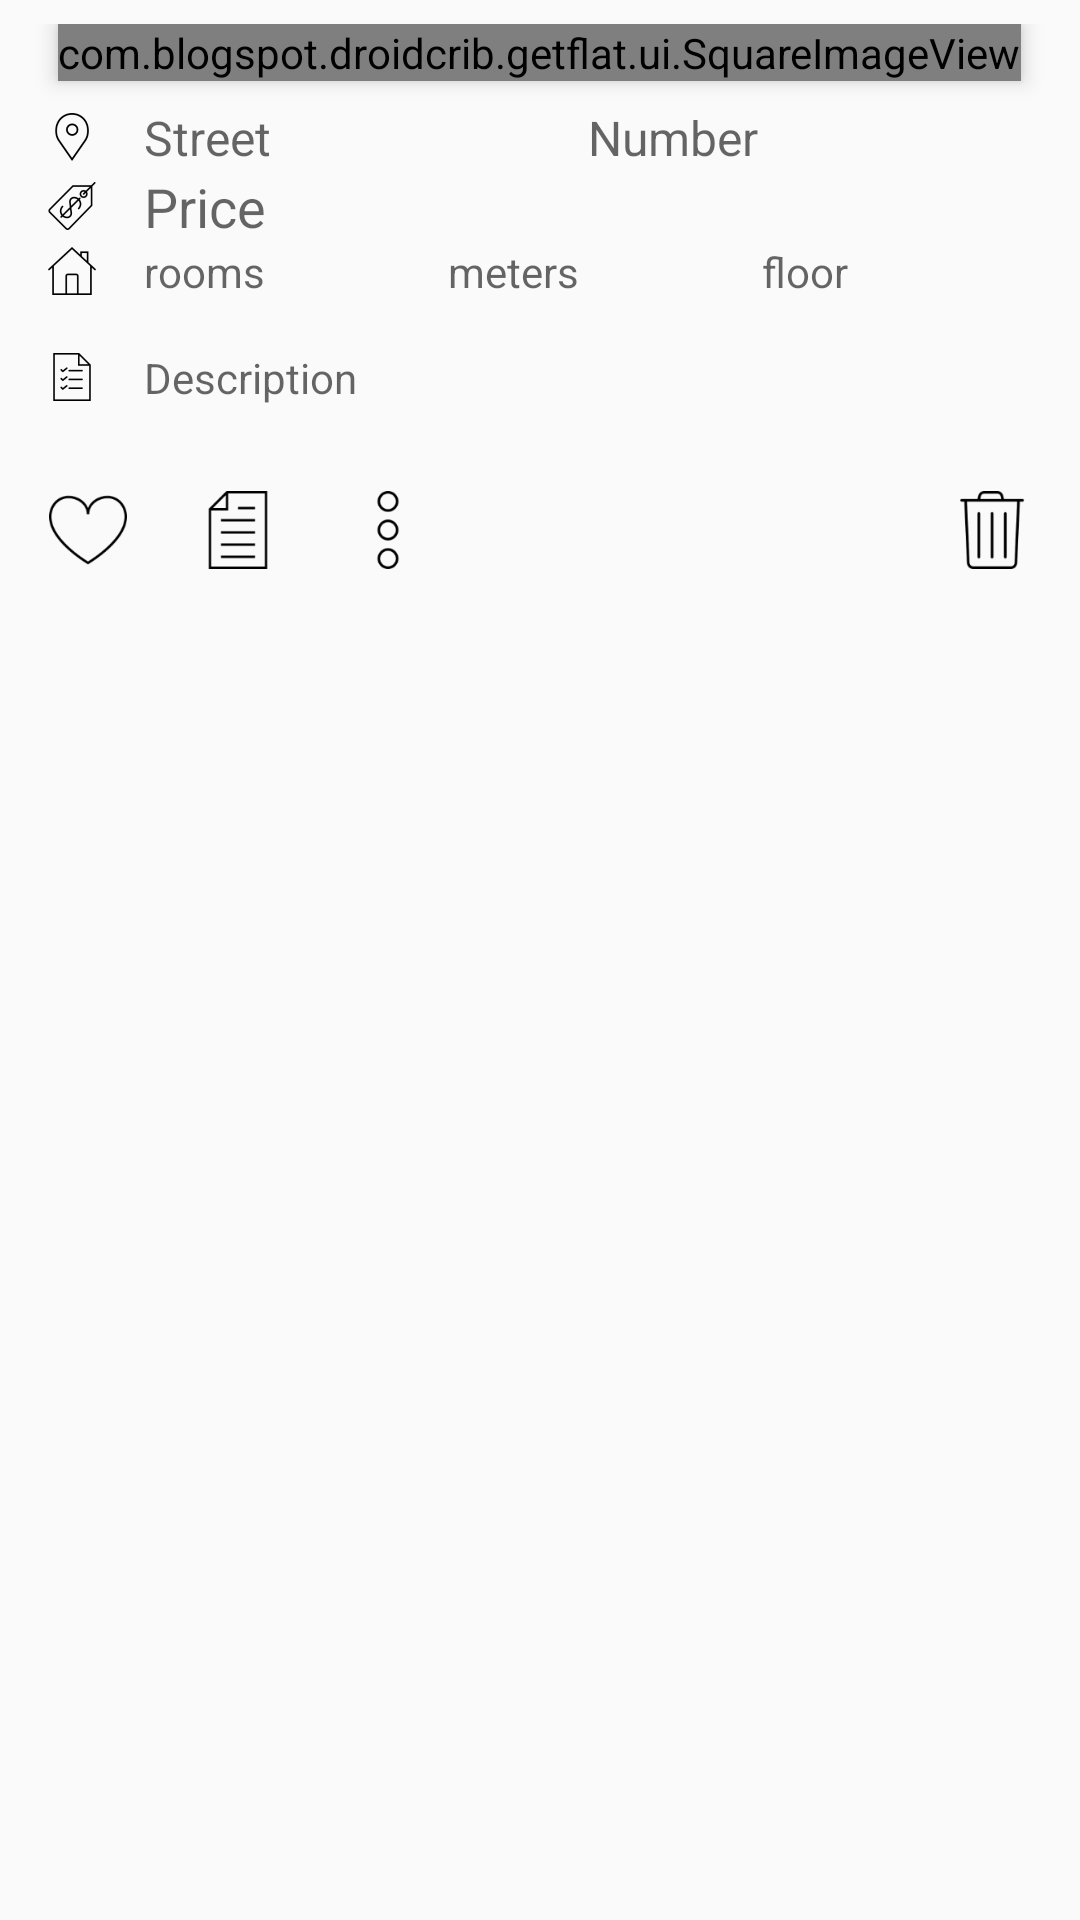

Screen size 1080*1920. Icon name, then its box in pixels as (x1, y1, x2, y2):
garbage: (960, 491, 1024, 569)
heart: (49, 495, 127, 565)
home: (48, 247, 96, 295)
list: (53, 353, 91, 401)
more: (377, 491, 399, 569)
note: (208, 491, 268, 569)
